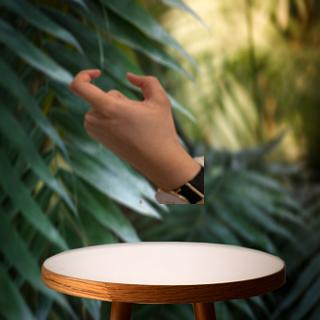HATE: (63, 63, 181, 170)
